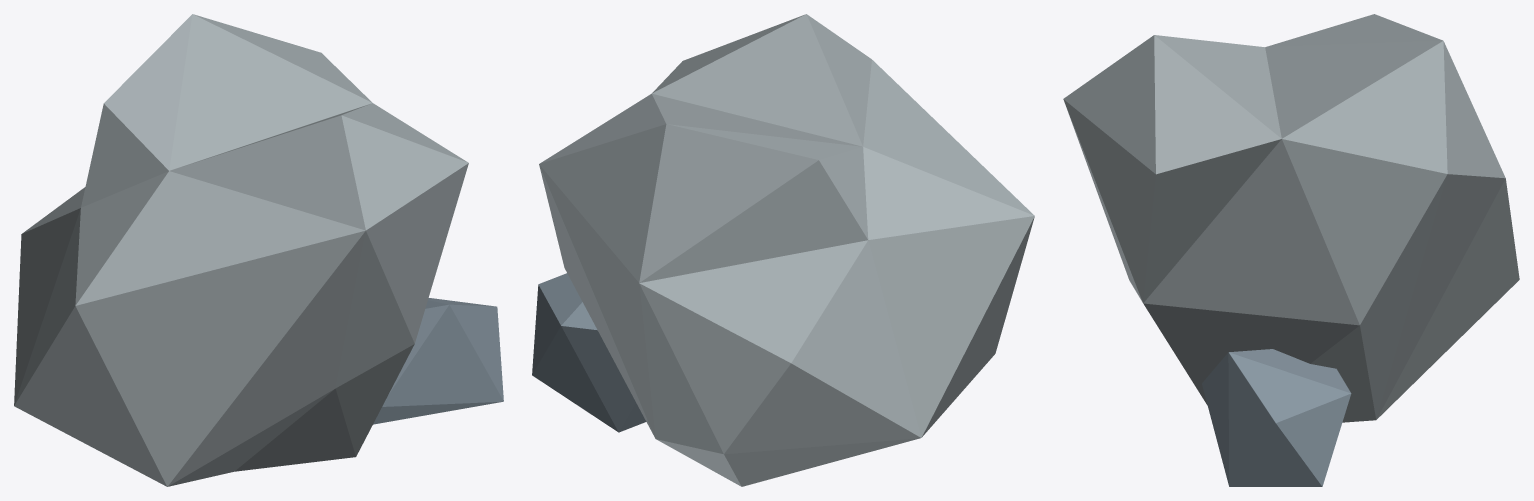
The model's file is Rock_02_LOD1.fbx.
The picture shows the model from 3 angles, left to right: view 1: azimuth 30°, elevation 25°; view 2: azimuth 150°, elevation 25°; view 3: azimuth 270°, elevation 25°; orthographic projection. The views are drawn at different scales.
Visible parts, largest first — view 1: Rock_02_LOD1; view 2: Rock_02_LOD1; view 3: Rock_02_LOD1.
Boxes of the visible parts, left/top/right/bottom form: Rock_02_LOD1: left=14, top=14, right=503, bottom=486; Rock_02_LOD1: left=532, top=14, right=1034, bottom=486; Rock_02_LOD1: left=1063, top=14, right=1519, bottom=486.
Bounding box in the file's own units: 210 × 171 × 180.
